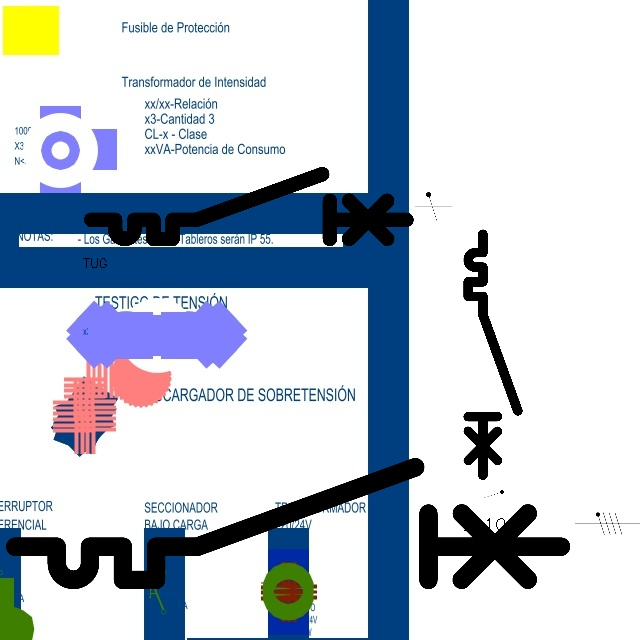interruptor_termomagnetico: (1, 453, 575, 594), (83, 166, 415, 247), (462, 228, 524, 481)
